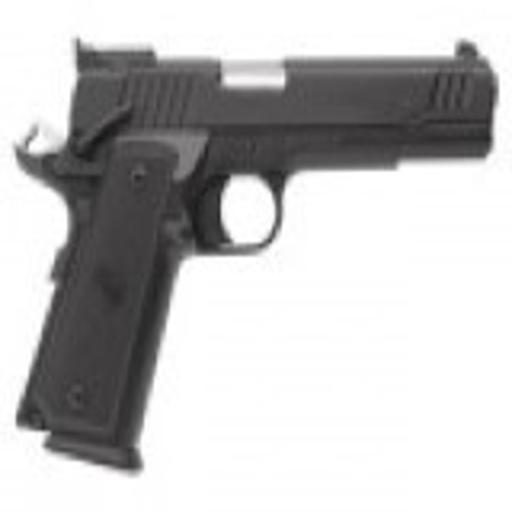Handgun: (11, 33, 495, 481)
